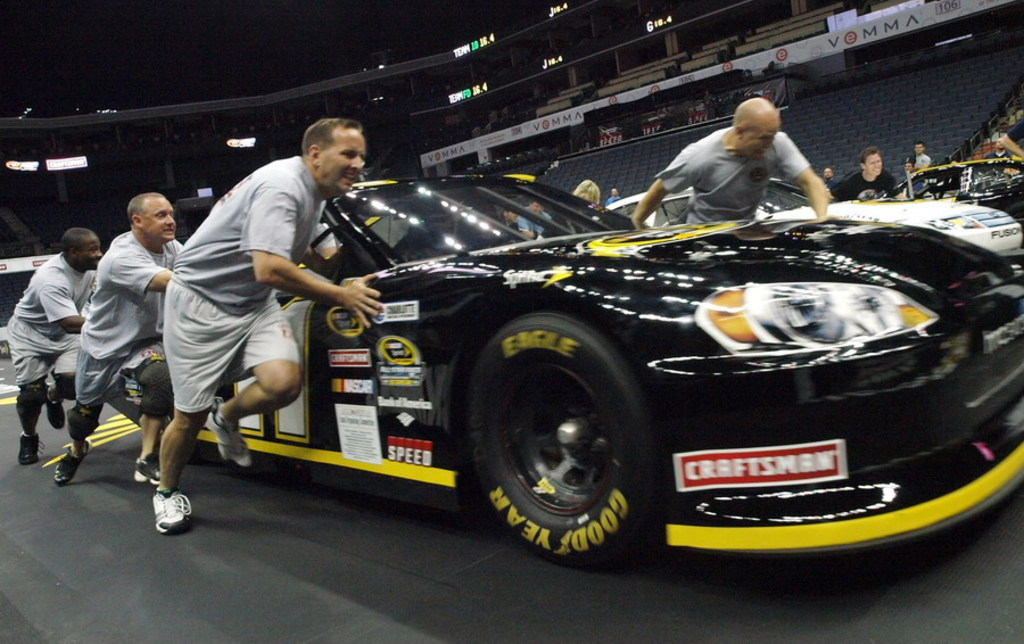mobil: (203, 156, 1021, 573)
